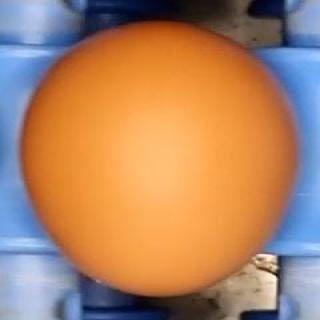Telur: (15, 19, 309, 302)
